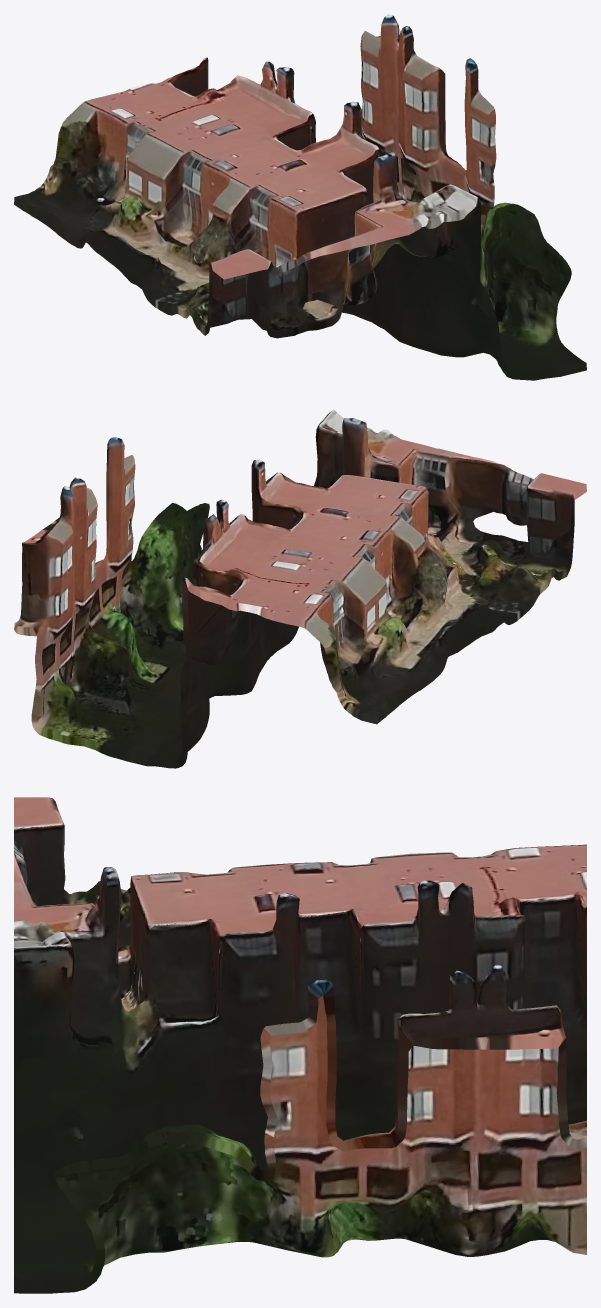
Rendered from z20-167778-405211-h0-yup-uvflip-v3-world.glb.
3 renders of one model, top to bottom at view 1: azimuth 30°, elevation 25°; view 2: azimuth 150°, elevation 25°; view 3: azimuth 270°, elevation 25°, orthographic. The views are drawn at different scales.
Bounding box in the file's own units: 30.24 × 18.36 × 30.32.
Materials: 1 (1 with a texture image).
